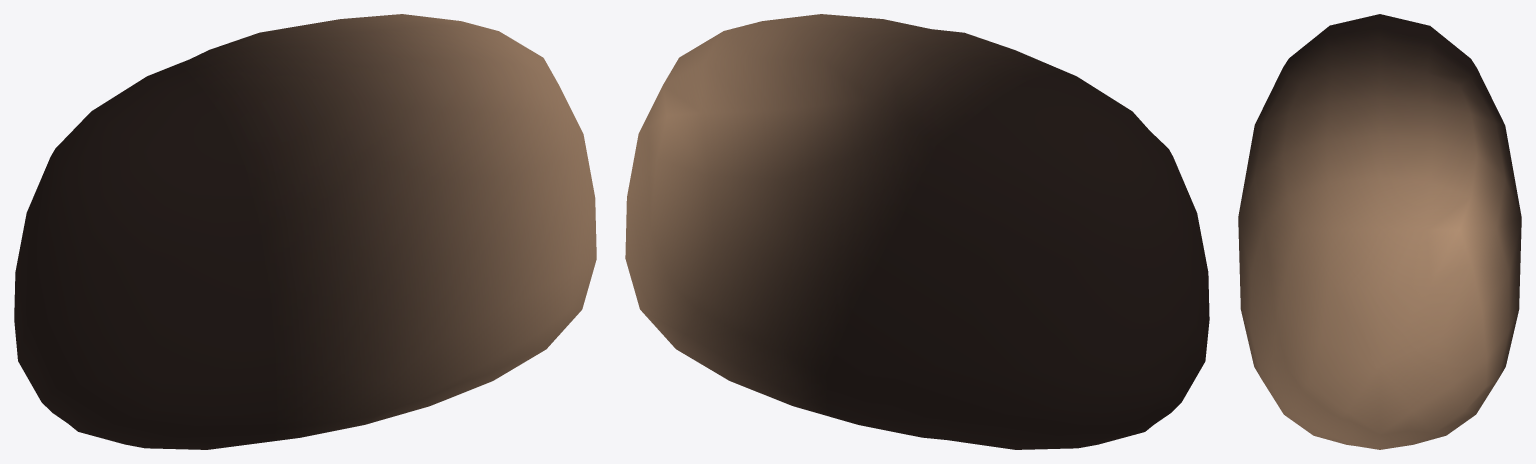
3 views of the same model, side by side, from view 1: azimuth 30°, elevation 25°; view 2: azimuth 150°, elevation 25°; view 3: azimuth 270°, elevation 25° (orthographic). The views are drawn at different scales.
Parts seen in each view (by area): view 1: Screenshot (1).001; view 2: Screenshot (1).001; view 3: Screenshot (1).001.
Boxes of the visible parts, box(x1,y1,x2,y2) form: Screenshot (1).001: box(14, 14, 596, 449); Screenshot (1).001: box(625, 14, 1209, 449); Screenshot (1).001: box(1238, 14, 1521, 449).
Bounding box in the file's own units: 45.27 × 27.47 × 23.11.
Materials: 3 (2 with a texture image).
